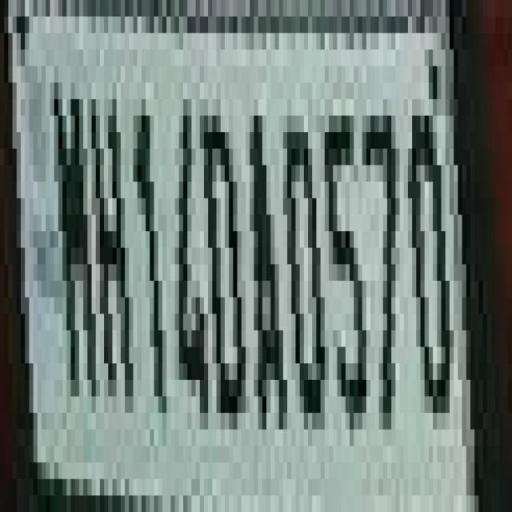number plate: (0, 16, 504, 496)
